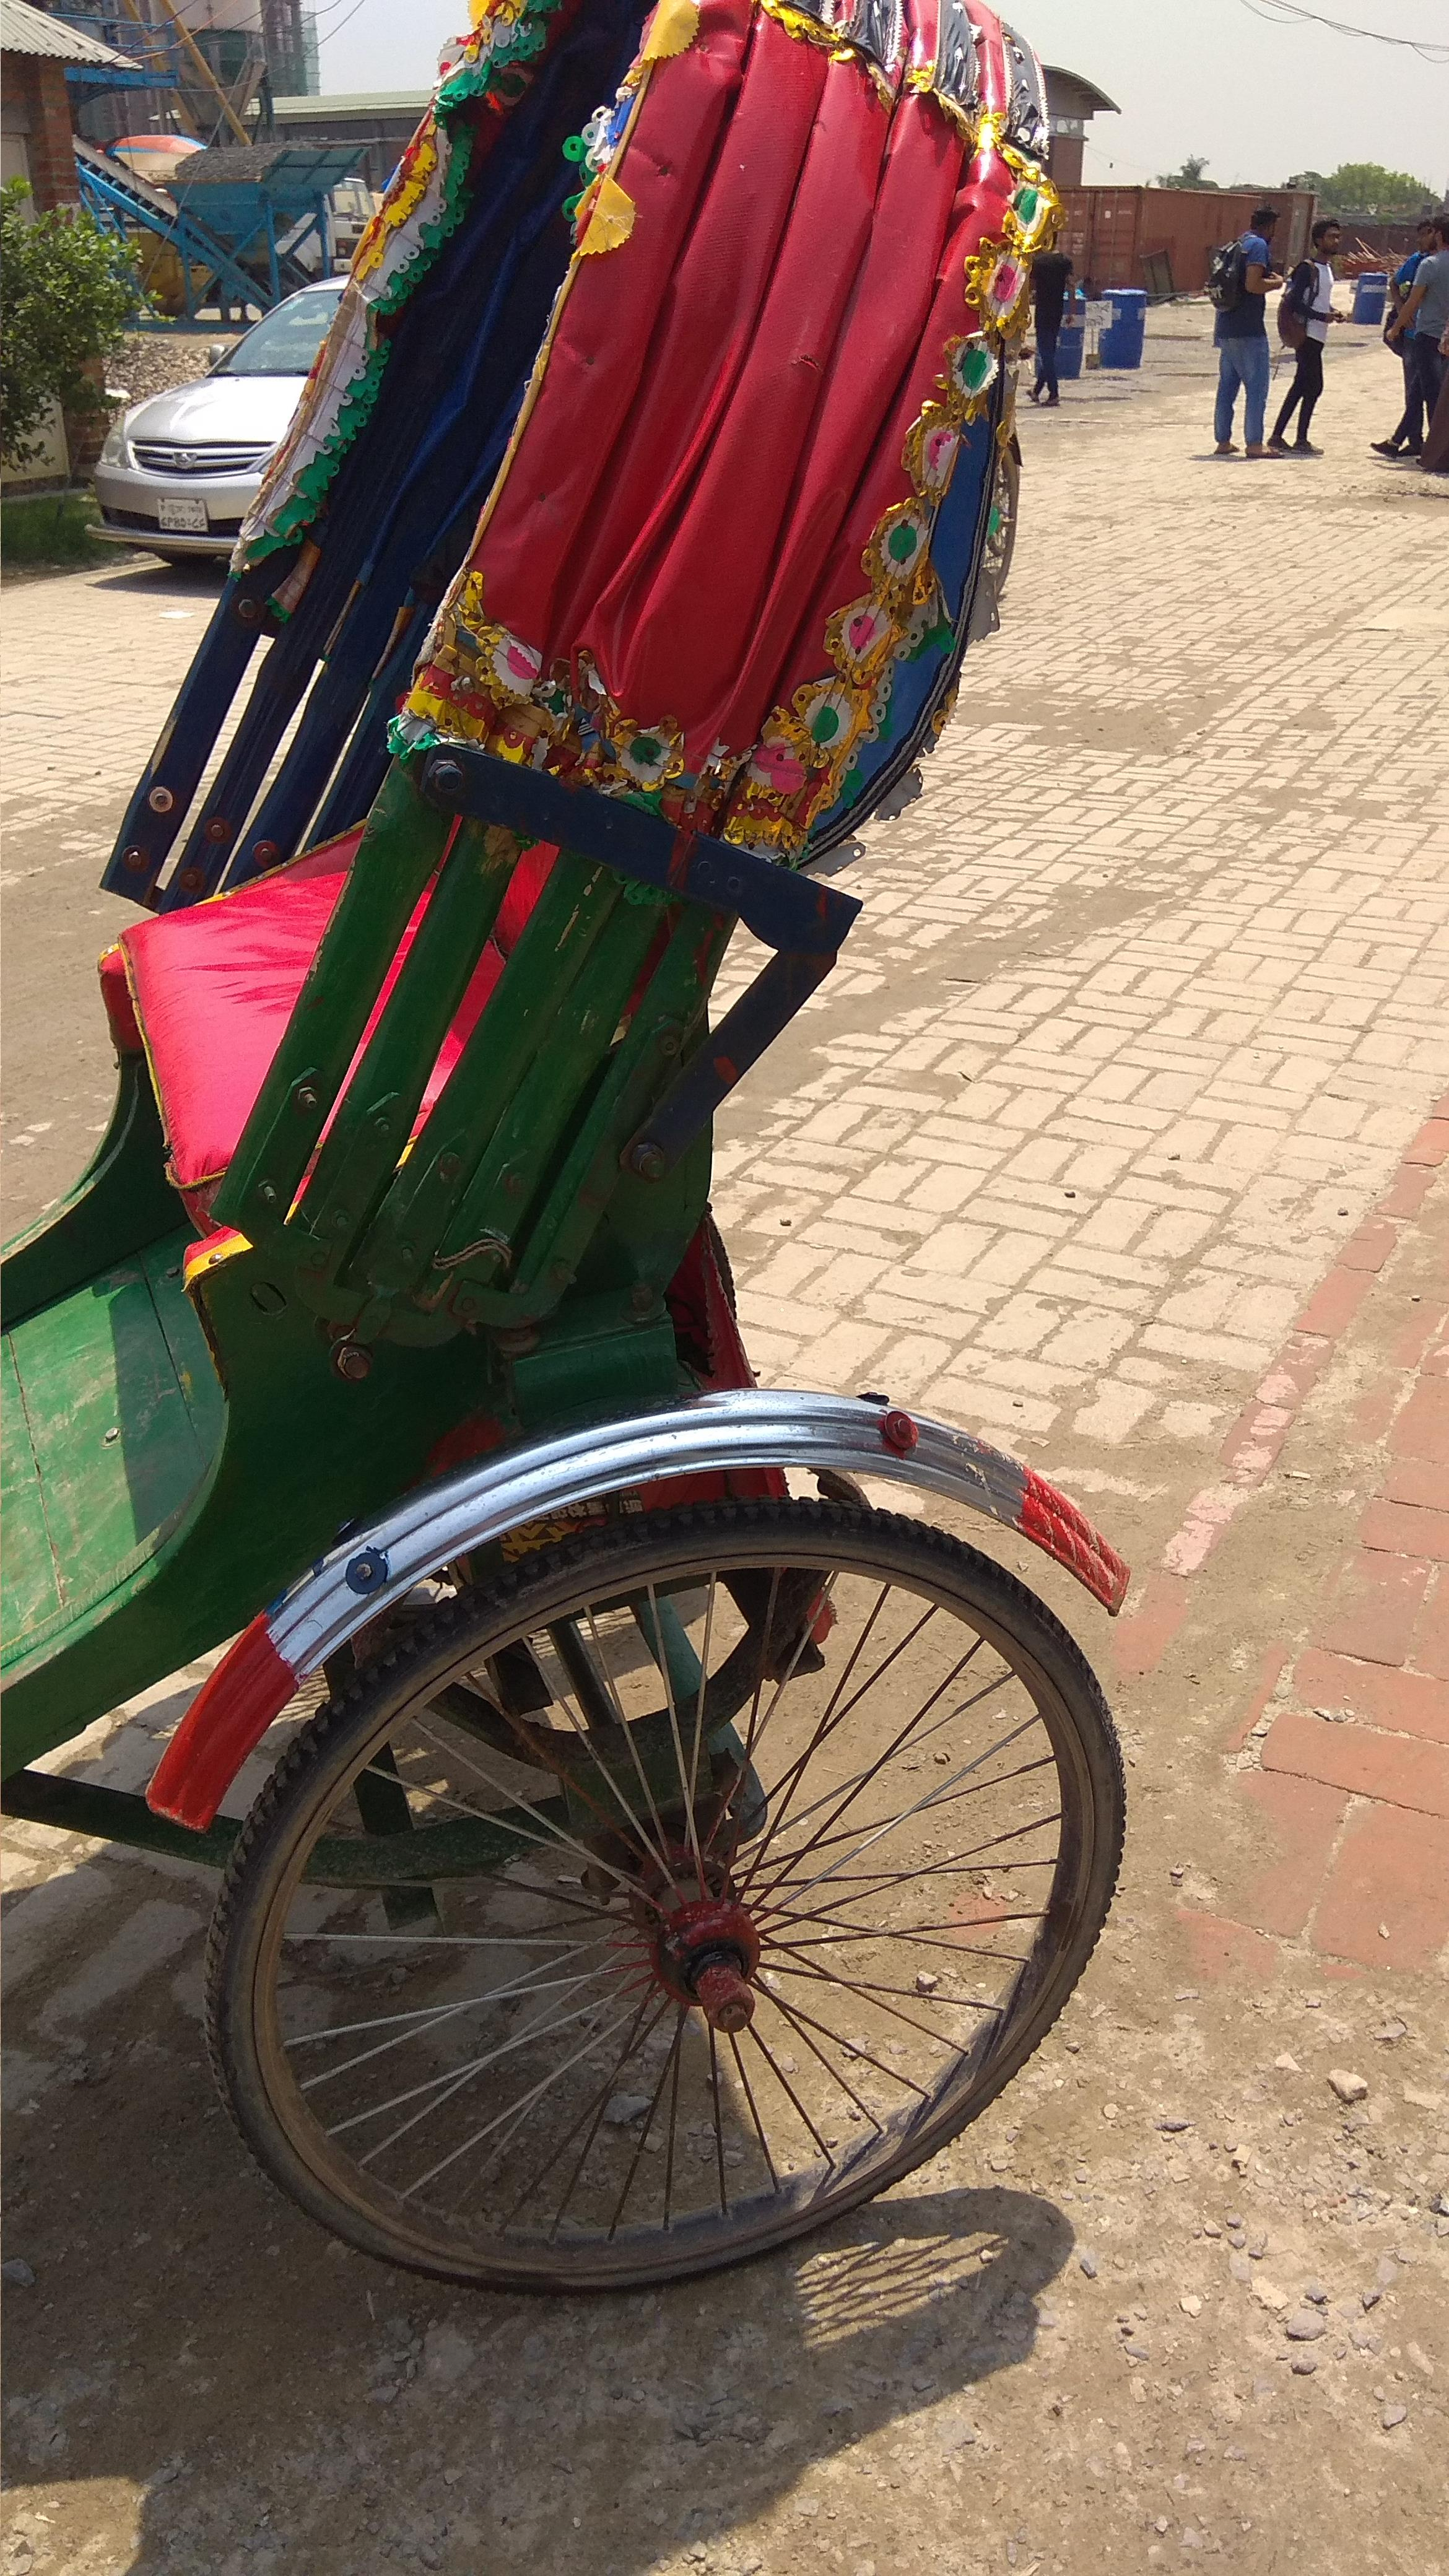Rickshaw: (12, 18, 1109, 2293)
